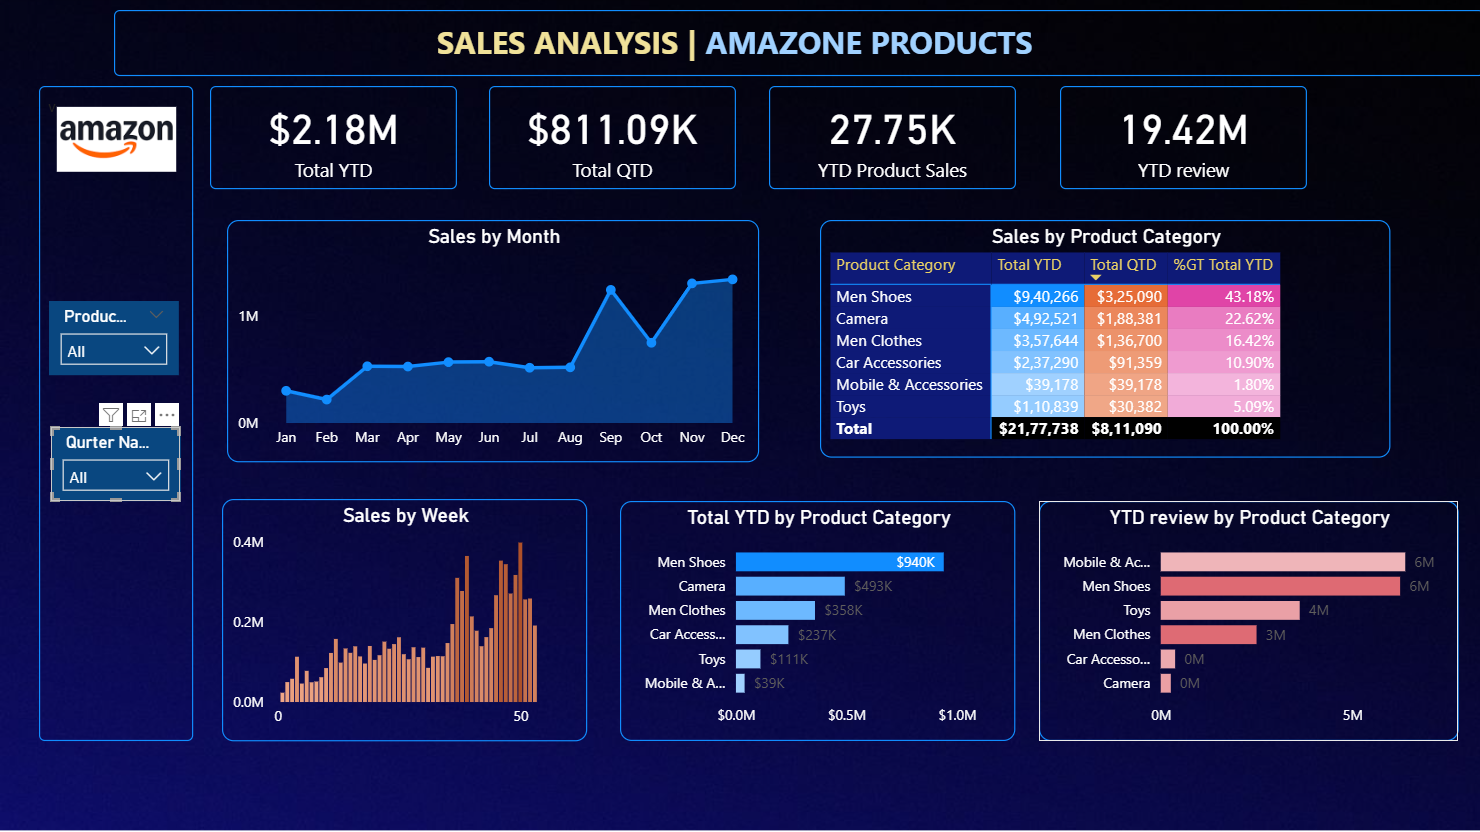

The dashboard page shown, as its layout file describes it:
{"tool":"powerbi","page":{"name":"Page 1","canvas":[1280,720],"ordinal":0},"visuals":[{"type":"card","fields":{"Values":["Amazon_Data.Total YTD"]},"box":[180.9,75.9,213,88.5],"z":0,"group":"g1"},{"type":"textbox","box":[371.4,14.9,610.2,49.2],"z":0},{"type":"card","fields":{"Values":["Amazon_Data.Total QTD"]},"box":[421.1,75.9,213,88.5],"z":1000,"group":"g1"},{"type":"textbox","box":[98.3,10.5,1181.9,57.1],"z":1000},{"type":"card","fields":{"Values":["Amazon_Data.YTD review"]},"box":[914.3,75.9,213,88.5],"z":2000,"group":"g1"},{"type":"textbox","box":[33.4,75.5,133.5,565.5],"z":2000},{"type":"card","fields":{"Values":["Amazon_Data.YTD Product Sales"]},"box":[663.3,75.9,213,88.5],"z":3000,"group":"g1"},{"type":"group","id":"g1","title":"Group 1","box":[180.9,75.9,946.4,88.5],"z":3000},{"type":"areaChart","title":"Sales by Month","fields":{"Y":["Sum(Amazon_Data.Price(Dollar))"],"Category":["Date Table.Month Name"]},"box":[195.5,191.6,459.1,209.1],"z":4000},{"type":"columnChart","title":"Sales by Week","fields":{"Category":["Date Table.WeekNumber"],"Y":["Sum(Amazon_Data.Price(Dollar))"]},"box":[191.6,431.9,315.1,209.1],"z":5000},{"type":"pivotTable","title":"Sales by Product Category","fields":{"Rows":["Amazon_Data.Product Category"],"Values":["Amazon_Data.Total YTD","Amazon_Data.Total QTD","Divide(Amazon_Data.Total YTD, ScopedEval(Amazon_Data.Total YTD, []))"]},"box":[707.1,191.6,492.2,205.2],"z":6000},{"type":"clusteredBarChart","fields":{"Y":["Amazon_Data.Total YTD"],"Category":["Amazon_Data.Product Category"]},"box":[535,433.8,341.4,207.2],"z":7000},{"type":"clusteredBarChart","fields":{"Category":["Amazon_Data.Product Category"],"Y":["Amazon_Data.YTD review"]},"box":[895.8,433.8,361.8,207.2],"z":8000},{"type":"slicer","fields":{"Values":["Amazon_Data.Product Category"]},"box":[42.1,261.7,111.5,64.1],"z":9000},{"type":"slicer","fields":{"Values":["Date Table.Qurter Name"]},"box":[43.9,369.7,111.5,64.1],"z":10000},{"type":"image","box":[43.9,75.5,113.3,91.3],"z":11000}]}

Visuals, with their boxes in screenshot pixels (x1, y1, x2, y2), scaled from the page's 1280x720 canvas onto the 1480x832 screenshot:
card - Amazon_Data.Total YTD: bbox=(209, 88, 455, 190)
textbox: bbox=(429, 17, 1135, 74)
card - Amazon_Data.Total QTD: bbox=(487, 88, 733, 190)
textbox: bbox=(114, 12, 1479, 78)
card - Amazon_Data.YTD review: bbox=(1057, 88, 1303, 190)
textbox: bbox=(39, 87, 193, 741)
card - Amazon_Data.YTD Product Sales: bbox=(767, 88, 1013, 190)
"Group 1" group: bbox=(209, 88, 1303, 190)
"Sales by Month" areaChart: bbox=(226, 221, 757, 463)
"Sales by Week" columnChart: bbox=(222, 499, 586, 741)
"Sales by Product Category" pivotTable: bbox=(818, 221, 1387, 459)
clusteredBarChart - Amazon_Data.Total YTD x Amazon_Data.Product Category: bbox=(619, 501, 1013, 741)
clusteredBarChart - Amazon_Data.Product Category x Amazon_Data.YTD review: bbox=(1036, 501, 1454, 741)
slicer - Amazon_Data.Product Category: bbox=(49, 302, 178, 376)
slicer - Date Table.Qurter Name: bbox=(51, 427, 180, 501)
image: bbox=(51, 87, 182, 193)
